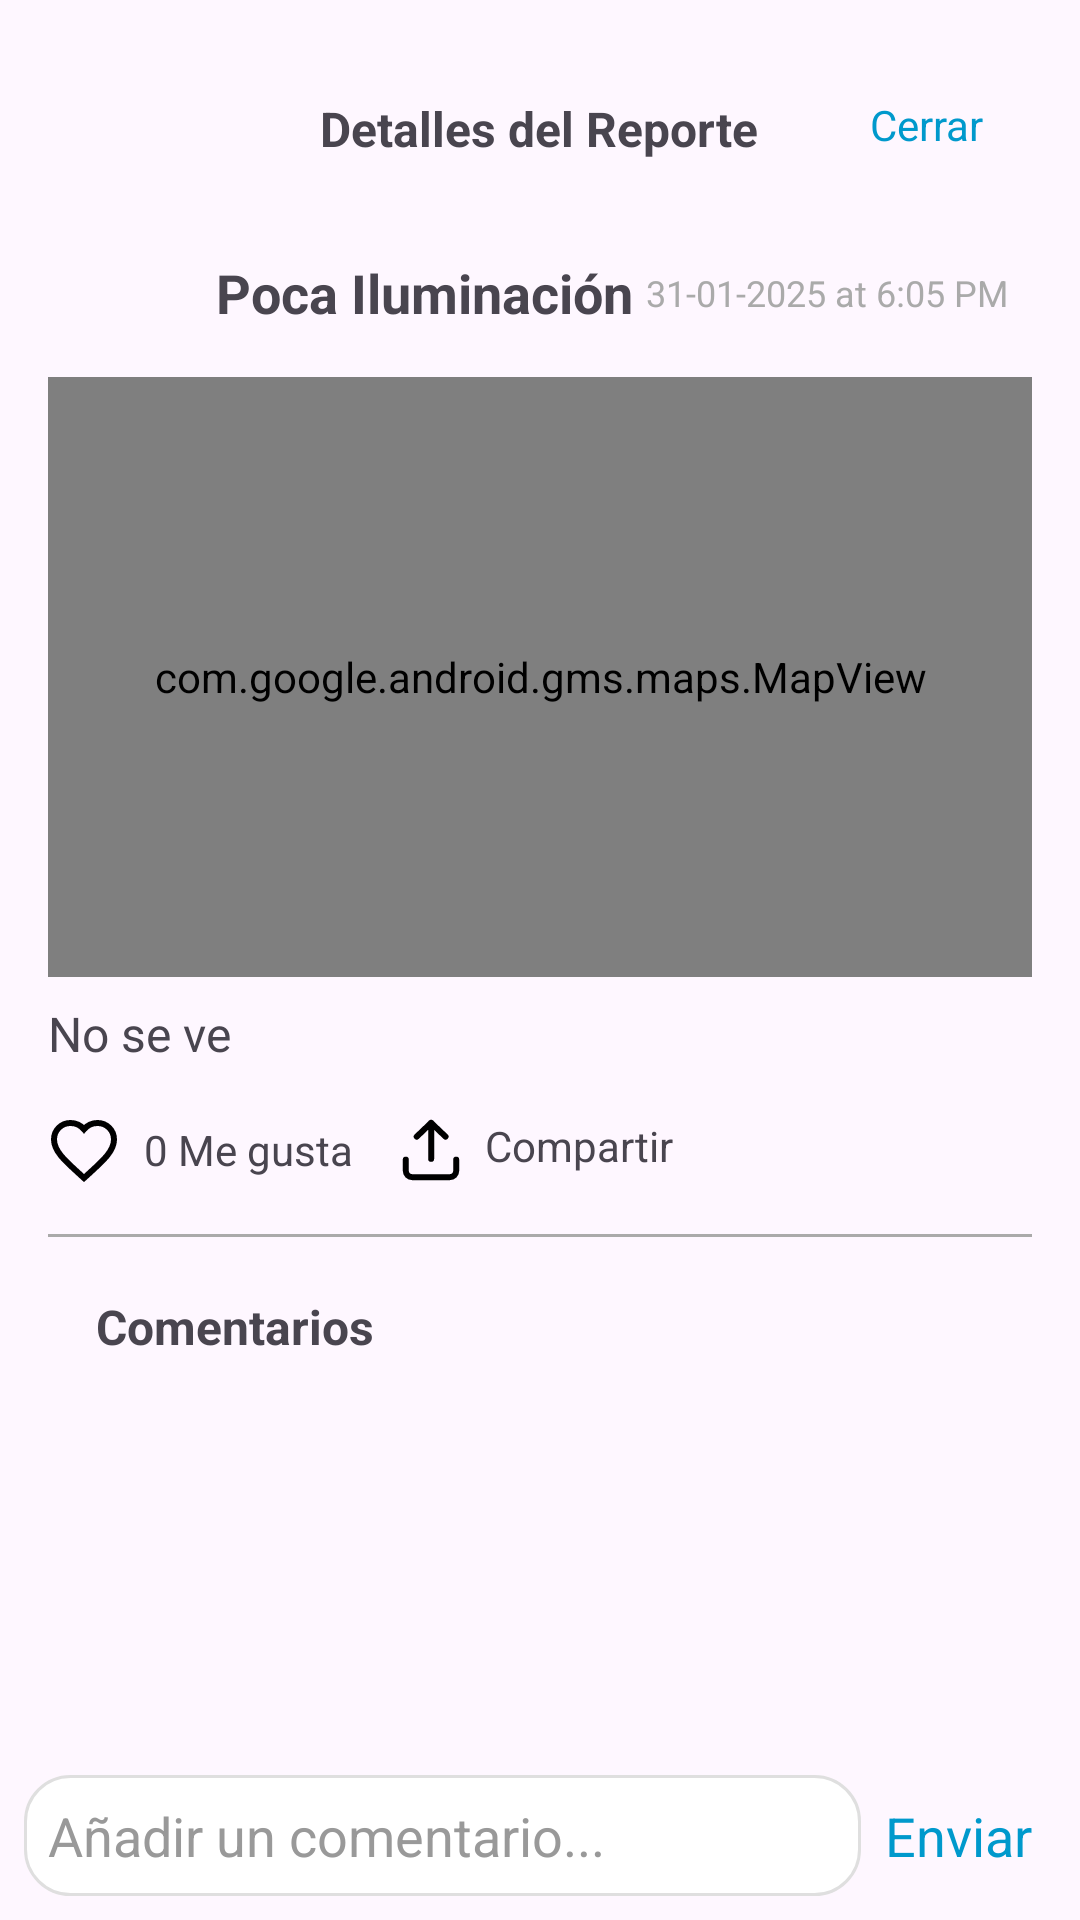

Where to tap for icons on this 1080x1920 app screen, as point (x, y):
corazon vacio: point (84, 1151)
